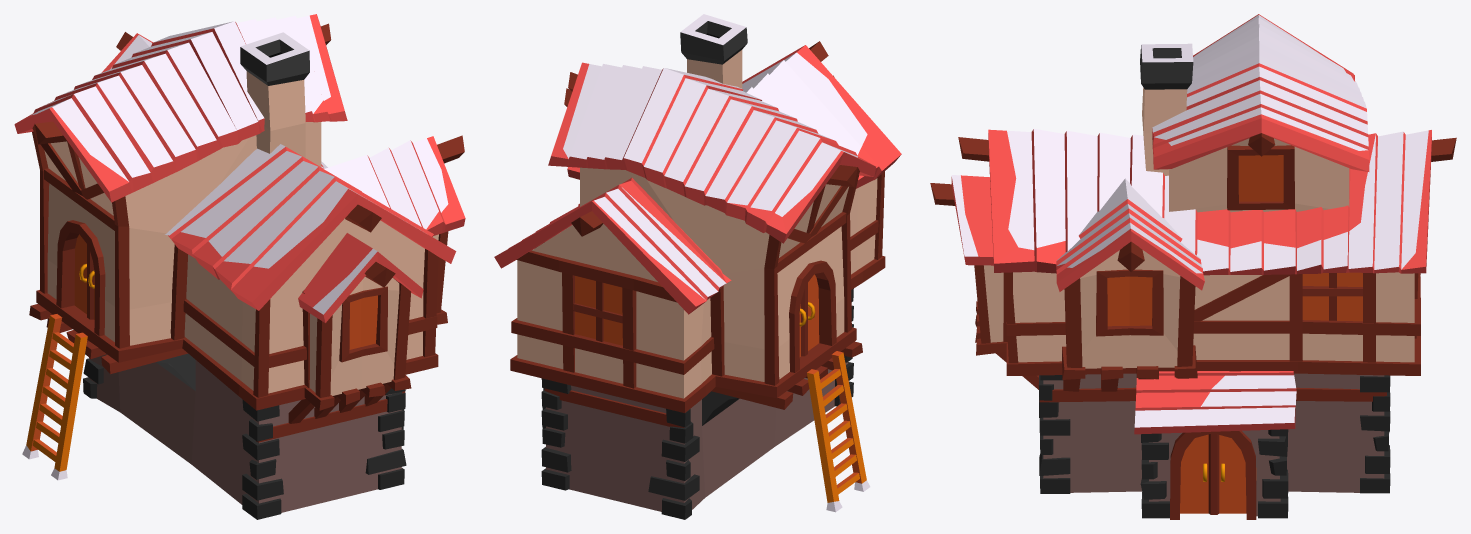
The model's file is house2.glb.
3 renders of one model, left to right at view 1: azimuth 30°, elevation 25°; view 2: azimuth 150°, elevation 25°; view 3: azimuth 270°, elevation 25°, orthographic. The views are drawn at different scales.
Parts seen in each view (by area): view 1: House2; view 2: House2; view 3: House2.
Part boxes in pixels (x1,y1,x2,y2): House2: [14, 14, 465, 519]; House2: [494, 14, 901, 519]; House2: [930, 14, 1456, 519].
Size of what is drawn, in the model's own units: 5.65 by 6.04 by 7.02.
1 material, 1 textured.
